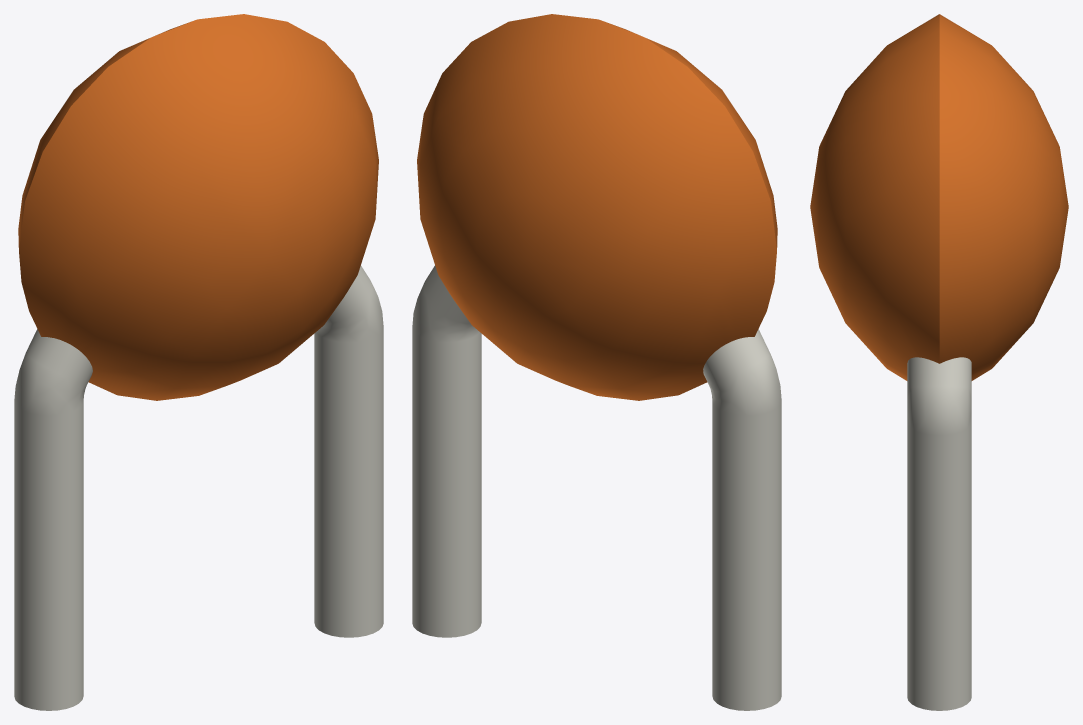
Rendered from Capacitor_THT__C_Disc_D3.0mm_W2.0mm_P2.50mm.glb.
The picture shows the model from 3 angles, left to right: view 1: azimuth 30°, elevation 25°; view 2: azimuth 150°, elevation 25°; view 3: azimuth 270°, elevation 25°; orthographic projection. The views are drawn at different scales.
Visible parts, largest first — view 1: C_Disc_D30mm_W20mm_P250mm; view 2: C_Disc_D30mm_W20mm_P250mm; view 3: C_Disc_D30mm_W20mm_P250mm.
Part boxes in pixels (left/top/right/bottom): C_Disc_D30mm_W20mm_P250mm: left=14, top=14, right=383, bottom=710; C_Disc_D30mm_W20mm_P250mm: left=412, top=14, right=781, bottom=710; C_Disc_D30mm_W20mm_P250mm: left=810, top=14, right=1068, bottom=710.
Bounding box in the file's own units: 0.003 × 0.0051 × 0.002.
